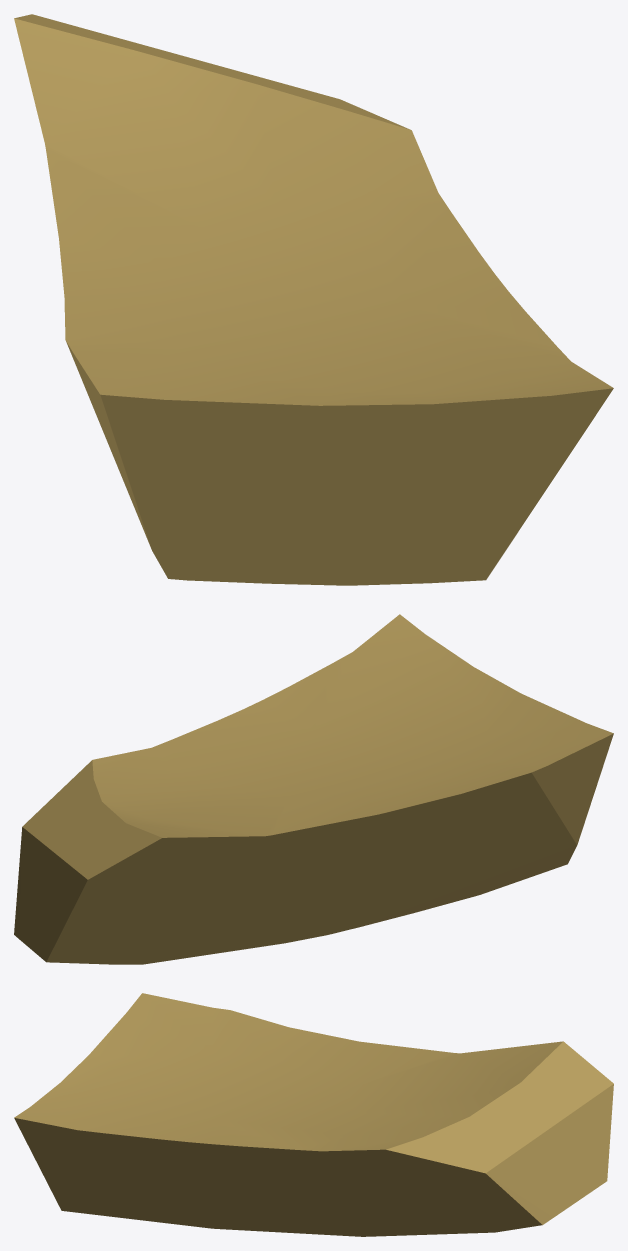
The model's file is broken_pot_cell.025.fbx.
The picture shows the model from 3 angles, top to bottom: view 1: azimuth 30°, elevation 25°; view 2: azimuth 150°, elevation 25°; view 3: azimuth 270°, elevation 25°; orthographic projection. The views are drawn at different scales.
Visible parts, largest first — view 1: broken_pot_cell.025; view 2: broken_pot_cell.025; view 3: broken_pot_cell.025.
Boxes of the visible parts, x1,y1,x2,y2 form: broken_pot_cell.025: (14,14,613,585); broken_pot_cell.025: (14,614,613,964); broken_pot_cell.025: (14,993,613,1236).
Bounding box in the file's own units: 0.5974 × 0.9899 × 0.2949.
